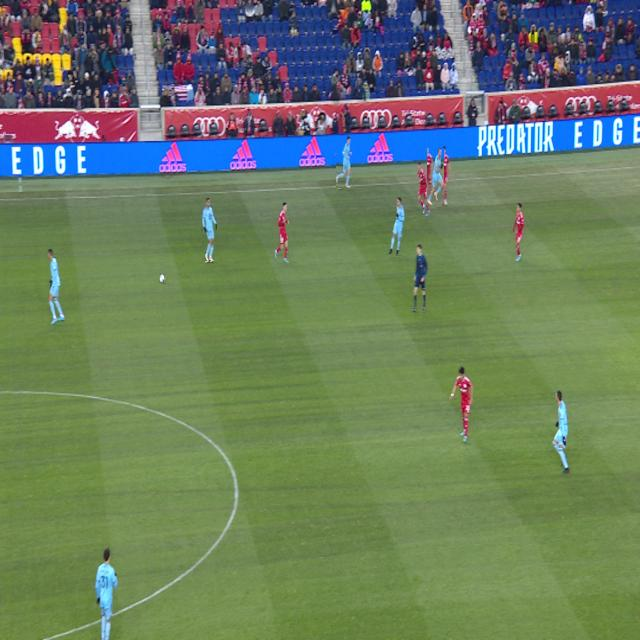football: (160, 274, 165, 283)
player: (95, 547, 118, 640), (449, 367, 473, 442), (552, 391, 569, 473), (48, 249, 65, 325), (427, 149, 444, 206), (388, 198, 405, 255), (202, 198, 217, 261), (275, 202, 289, 263), (336, 136, 352, 188), (438, 146, 452, 205), (417, 161, 430, 216), (513, 203, 524, 261)
referee: (412, 245, 428, 312)
